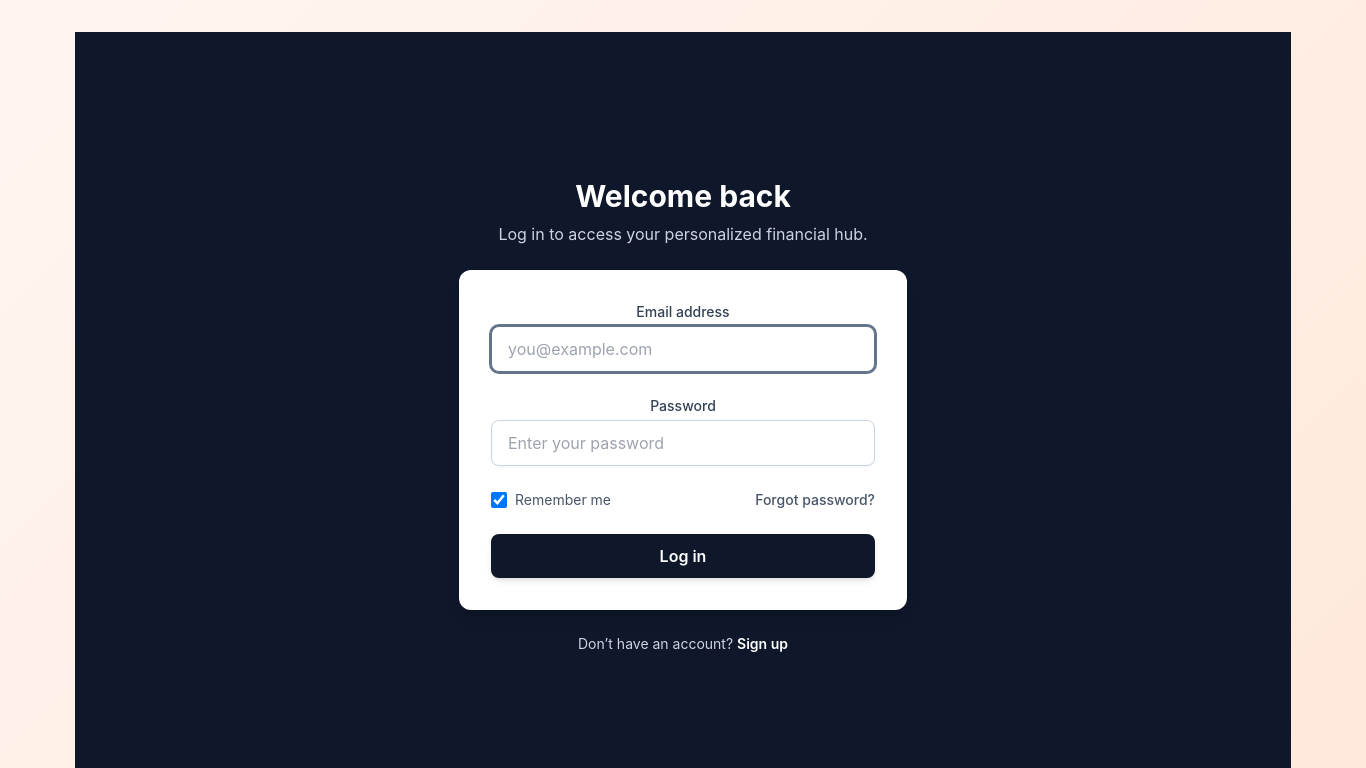
Test: LoginPage › validates email format before attempting login
The width and height of the screenshot is (1366, 768).
Type "invalid-email" into the field labelled "Email address".
click(683, 349); type("invalid-email")  # box [491,326,875,372]
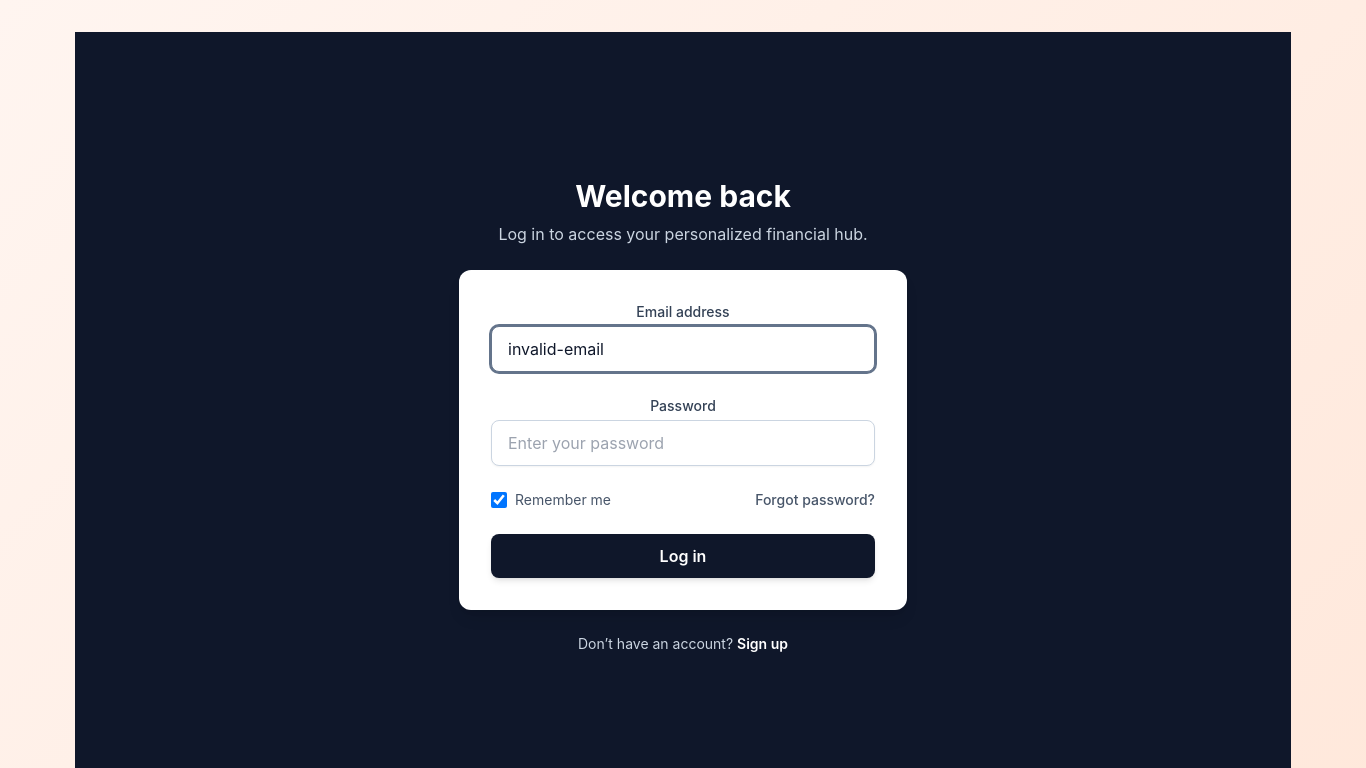
Type "Password123!" into the password field labelled "Password".
click(683, 443); type("Password123!")  # box [491,420,875,466]
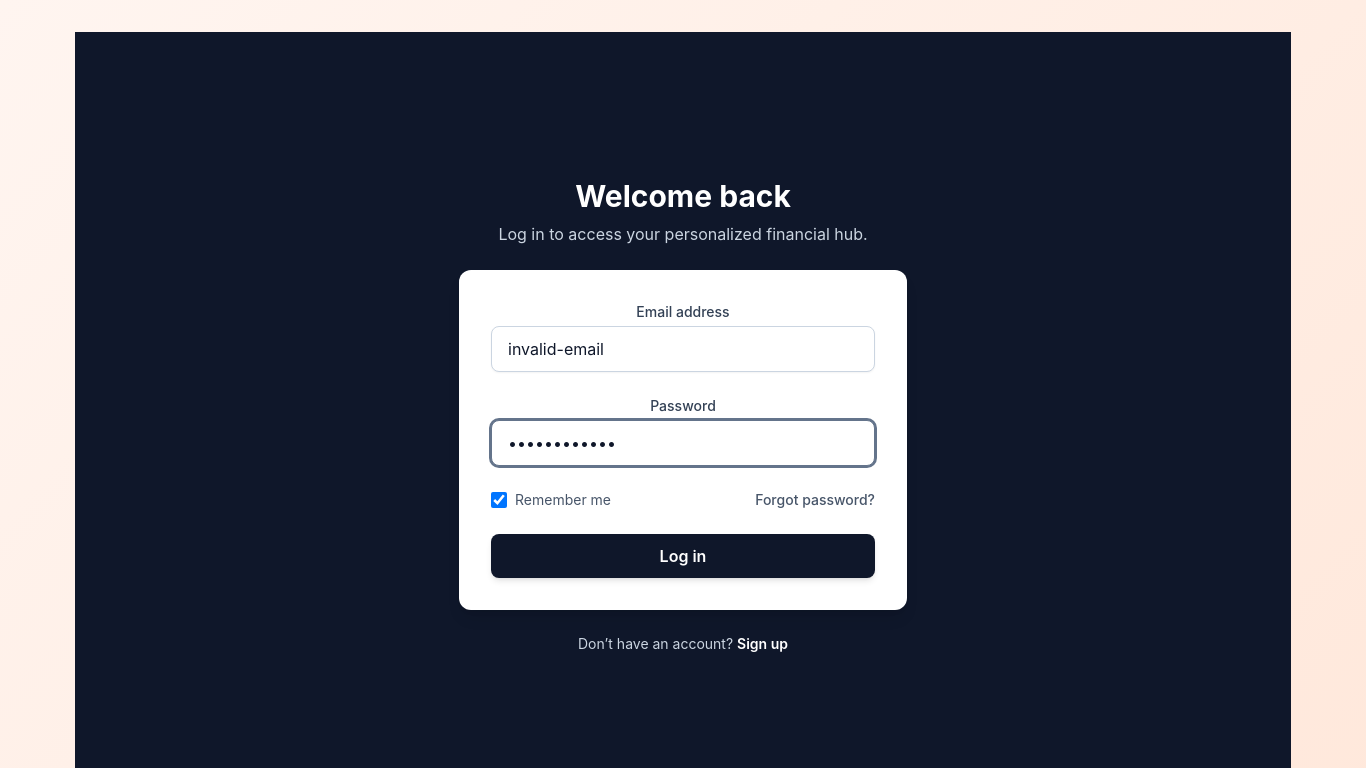
Click the button "Log in".
click(683, 556)  # box [491,534,875,578]
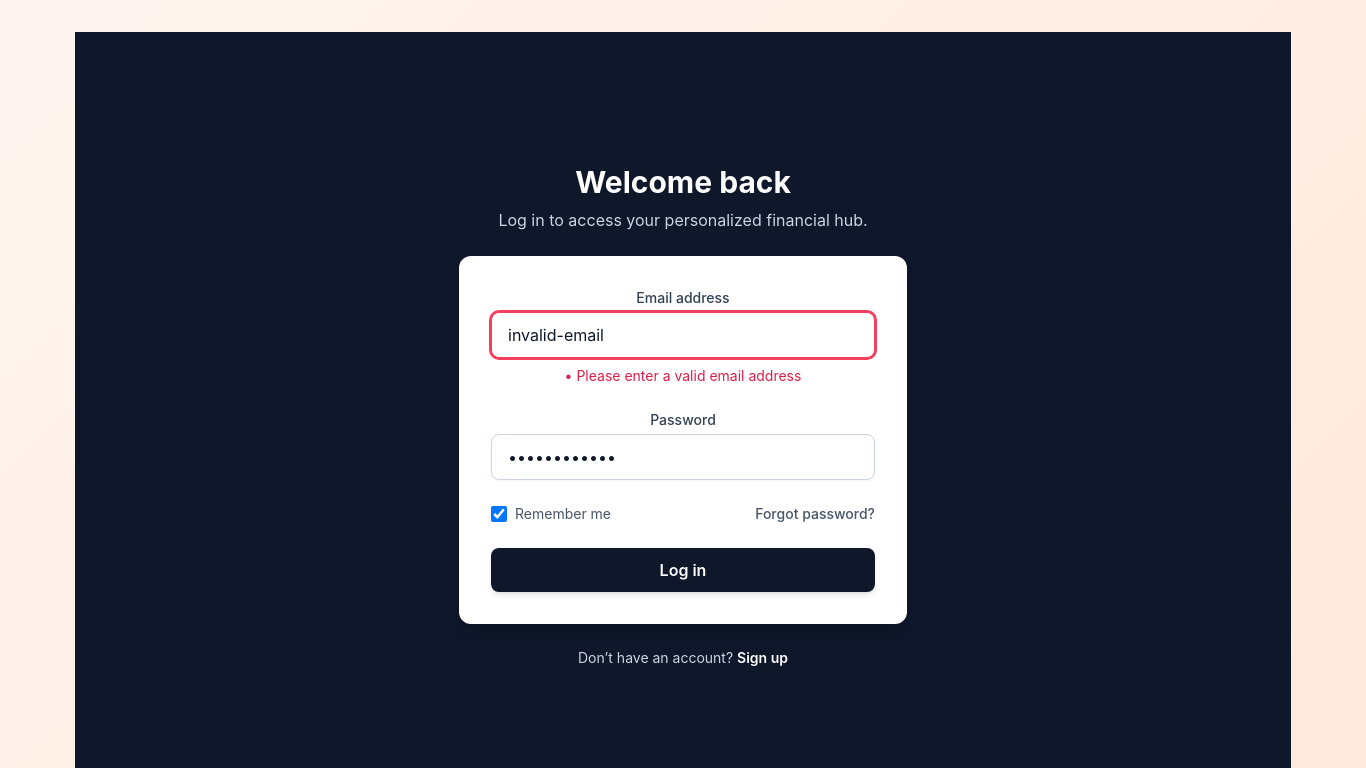
Expected: the text "• Please enter a valid email address" is shown, [565,367,801,384]
